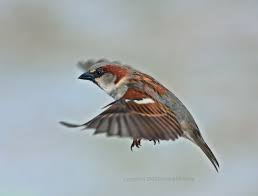hsparrow: (57, 58, 226, 172)
